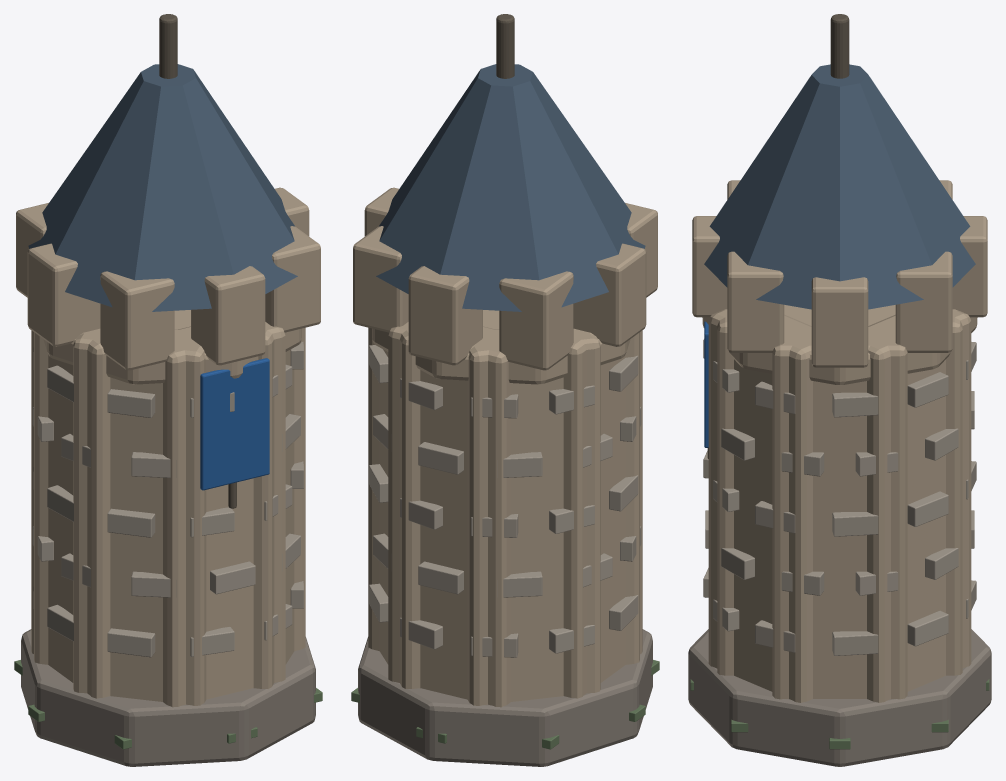
The model's file is Valoria_Tower_LibraryV1.glb.
The picture shows the model from 3 angles, left to right: view 1: azimuth 30°, elevation 25°; view 2: azimuth 150°, elevation 25°; view 3: azimuth 270°, elevation 25°; orthographic projection.
Parts seen in each view (by area): view 1: Tower slate crown, Tower faceted wall.005, Tower faceted wall.004, Tower plinth, Tower faceted wall.006, Tower heraldry cloth, Tower faceted wall.003, Tower crown merlon.005, Tower crown merlon.004, Tower crown merlon.006, Tower faceted wall.007, Tower crown merlon.003 (+16 smaller); view 2: Tower slate crown, Tower faceted wall.007, Tower faceted wall, Tower plinth, Tower faceted wall.006, Tower faceted wall.001, Tower crown merlon.007, Tower crown merlon, Tower crown merlon.006, Tower crown merlon.001, Tower faceted wall.005, Tower cornice (+23 smaller); view 3: Tower slate crown, Tower faceted wall.002, Tower faceted wall.003, Tower faceted wall.001, Tower plinth, Tower faceted wall, Tower crown merlon.002, Tower crown merlon.001, Tower crown merlon.003, Tower faceted wall.004, Tower cornice, Tower crown merlon (+20 smaller).
Part boxes in pixels (box(x1,y1,x2,y2)): Tower slate crown: box(28, 64, 297, 311); Tower faceted wall.005: box(73, 328, 206, 705); Tower faceted wall.004: box(163, 325, 285, 707); Tower plinth: box(21, 629, 315, 766); Tower faceted wall.006: box(31, 330, 110, 698); Tower heraldry cloth: box(200, 358, 269, 490); Tower faceted wall.003: box(253, 322, 294, 688); Tower crown merlon.005: box(100, 271, 174, 370); Tower crown merlon.004: box(191, 266, 265, 365); Tower crown merlon.006: box(27, 243, 100, 346); Tower faceted wall.007: box(34, 332, 48, 664); Tower crown merlon.003: box(265, 226, 320, 332); Tower slate crown: box(376, 64, 645, 311); Tower faceted wall.007: box(467, 328, 600, 705); Tower faceted wall: box(388, 322, 510, 707); Tower plinth: box(358, 629, 652, 766); Tower faceted wall.006: box(563, 330, 642, 698); Tower faceted wall.001: box(379, 322, 420, 688); Tower crown merlon.007: box(499, 271, 573, 370); Tower crown merlon: box(408, 266, 482, 365); Tower crown merlon.006: box(573, 243, 646, 346); Tower crown merlon.001: box(353, 226, 408, 332); Tower faceted wall.005: box(625, 332, 639, 664); Tower cornice: box(372, 310, 630, 384); Tower slate crown: box(704, 64, 975, 309); Tower faceted wall.002: box(772, 327, 907, 699); Tower faceted wall.003: box(708, 309, 812, 702); Tower faceted wall.001: box(867, 309, 971, 702); Tower plinth: box(688, 629, 991, 766); Tower faceted wall: box(946, 309, 962, 675); Tower crown merlon.002: box(811, 277, 868, 367); Tower crown merlon.001: box(895, 251, 952, 352); Tower crown merlon.003: box(727, 251, 784, 352); Tower faceted wall.004: box(717, 309, 733, 675); Tower cornice: box(702, 305, 977, 385); Tower crown merlon: box(952, 216, 987, 317).
Bounding box in the file's own units: 1.75 × 4.27 × 1.7.
